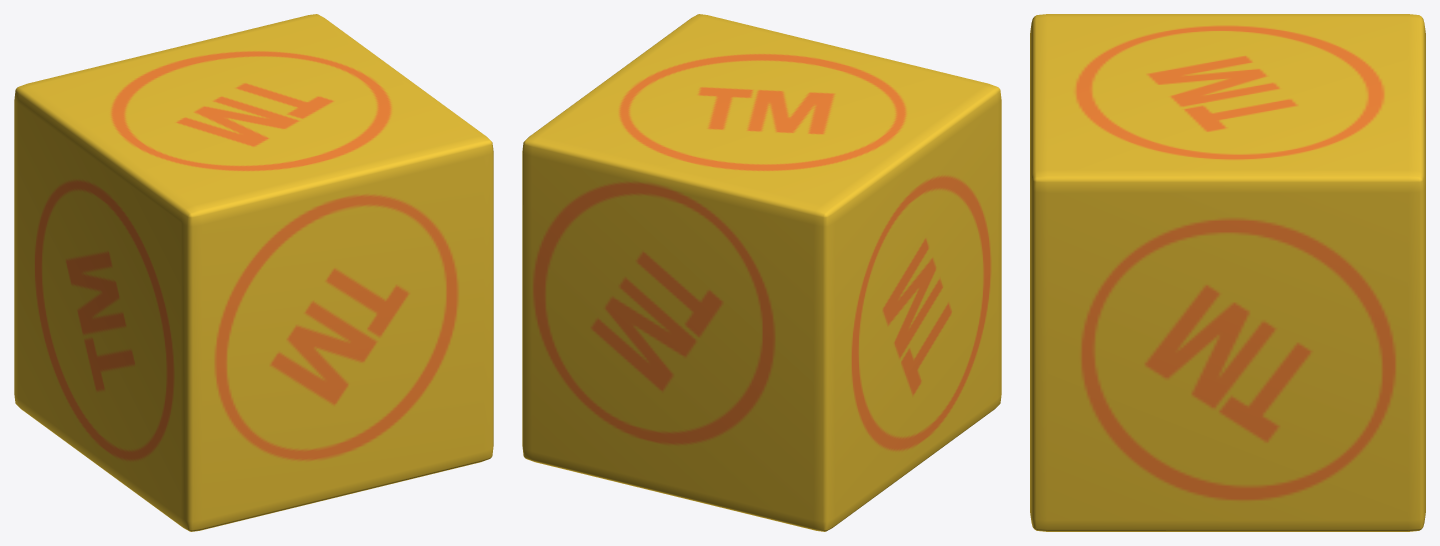
Rendered from SM_StartingBlocks.fbx.
3 renders of one model, left to right at view 1: azimuth 30°, elevation 25°; view 2: azimuth 150°, elevation 25°; view 3: azimuth 270°, elevation 25°, orthographic. The views are drawn at different scales.
Parts seen in each view (by area): view 1: Base; view 2: Base; view 3: Base.
Part boxes in pixels (x1,y1,x2,y2): Base: (14, 14, 493, 531); Base: (522, 14, 1001, 531); Base: (1030, 14, 1425, 531).
Size of the model in its own units: 100 by 100 by 100.
